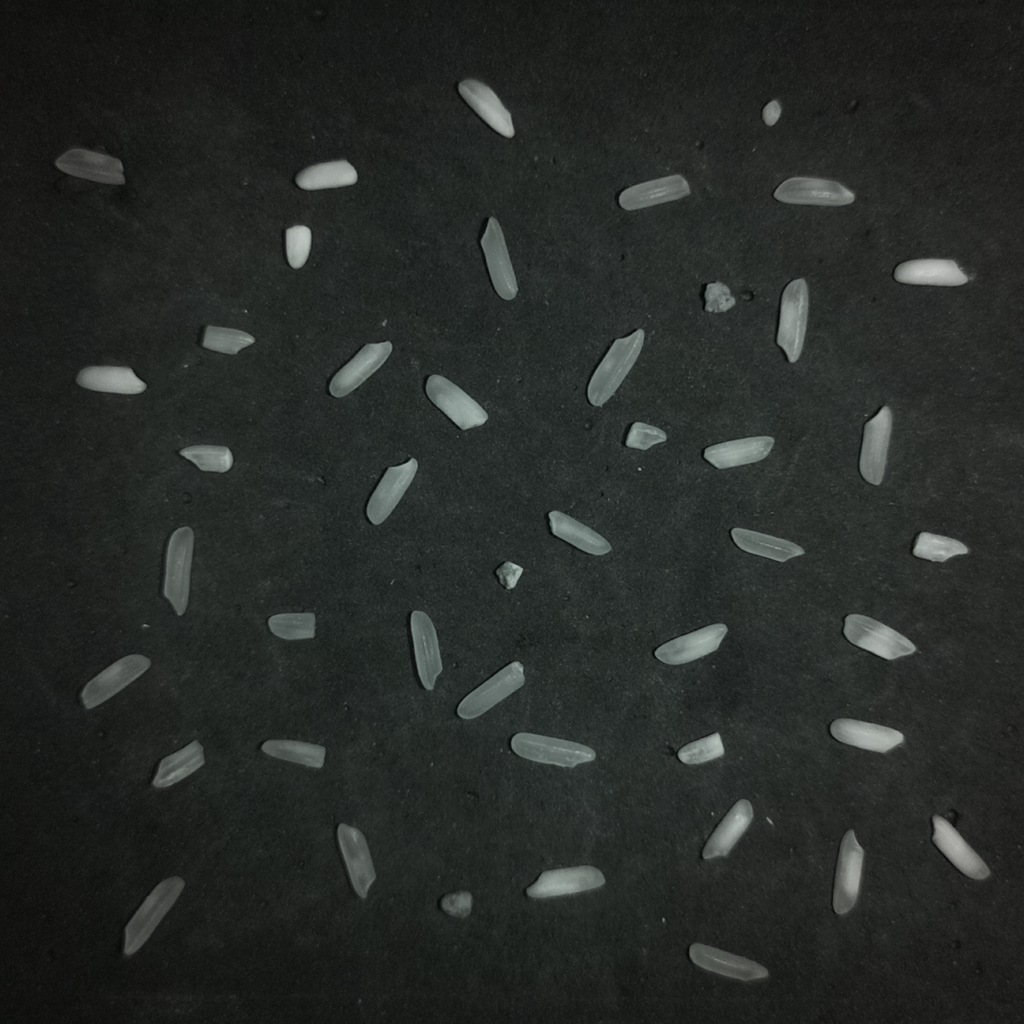broken: (151, 740, 204, 787), (261, 739, 325, 768), (912, 532, 968, 562), (201, 325, 253, 354), (678, 732, 723, 765), (268, 612, 316, 641), (624, 421, 666, 450), (703, 282, 735, 313), (761, 99, 782, 127)
chalky: (931, 815, 990, 880), (328, 341, 392, 397), (457, 78, 514, 138), (366, 458, 417, 525), (425, 374, 487, 429), (843, 614, 916, 659), (654, 623, 728, 665), (702, 800, 752, 859), (526, 865, 604, 898), (829, 718, 903, 752), (703, 436, 772, 468), (893, 258, 969, 286), (76, 366, 145, 394), (295, 159, 357, 190), (179, 444, 232, 472), (284, 225, 311, 268)
foreign: (439, 890, 472, 918), (495, 561, 523, 589)
whole: (123, 876, 184, 955), (587, 329, 644, 406), (456, 661, 524, 719), (79, 654, 150, 708), (480, 217, 517, 300), (689, 943, 768, 981), (511, 732, 595, 767), (336, 824, 375, 898), (776, 278, 809, 363), (548, 511, 610, 555), (163, 526, 193, 615), (618, 174, 690, 211), (832, 829, 863, 914), (859, 405, 892, 484), (410, 610, 442, 690), (54, 148, 124, 184), (730, 528, 803, 561), (774, 177, 854, 206)
